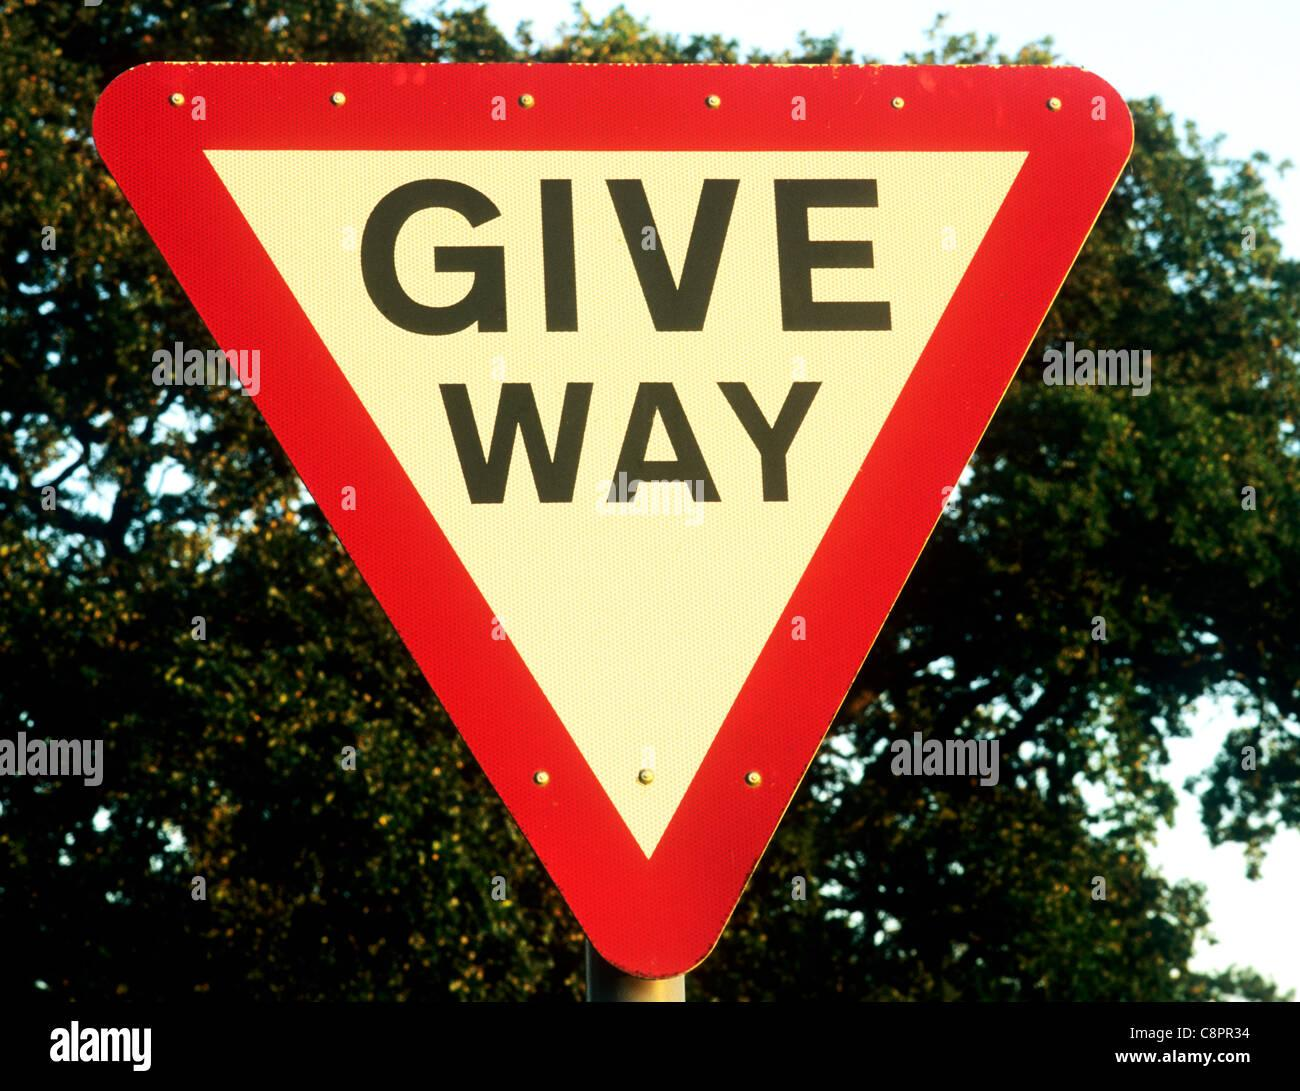give-way: (102, 60, 1129, 974)
